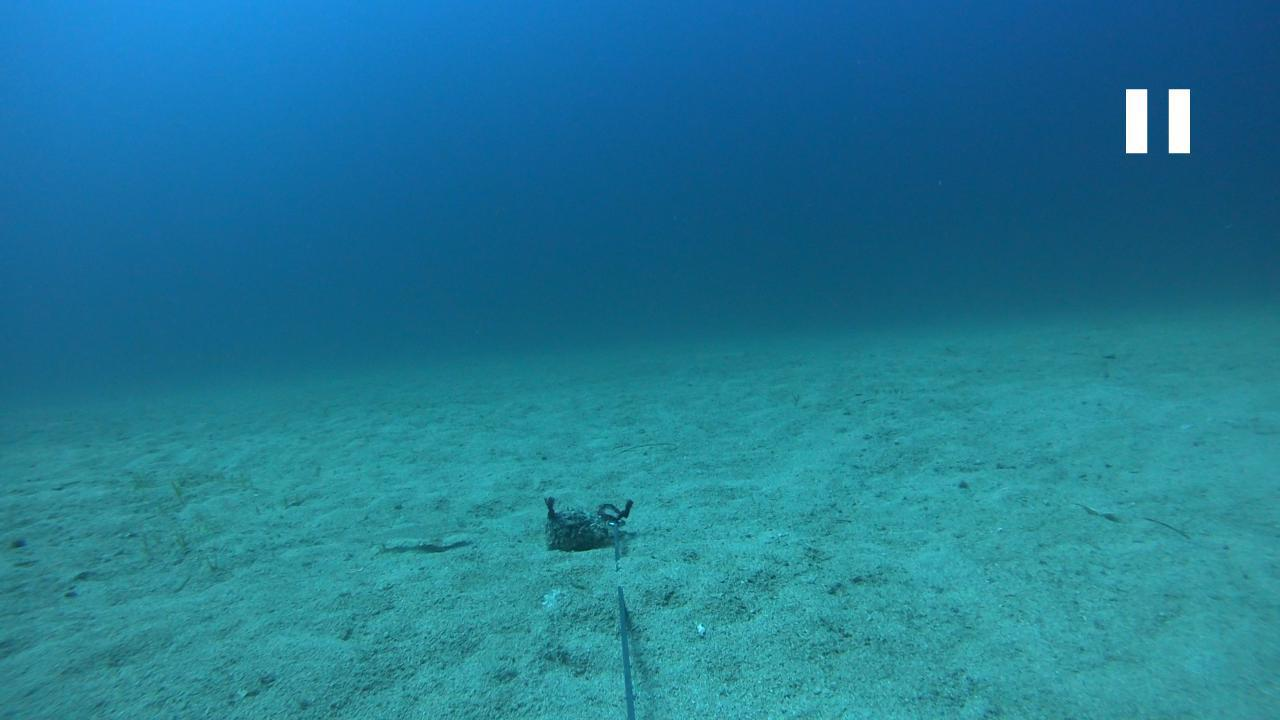bothus: (362, 514, 485, 552)
